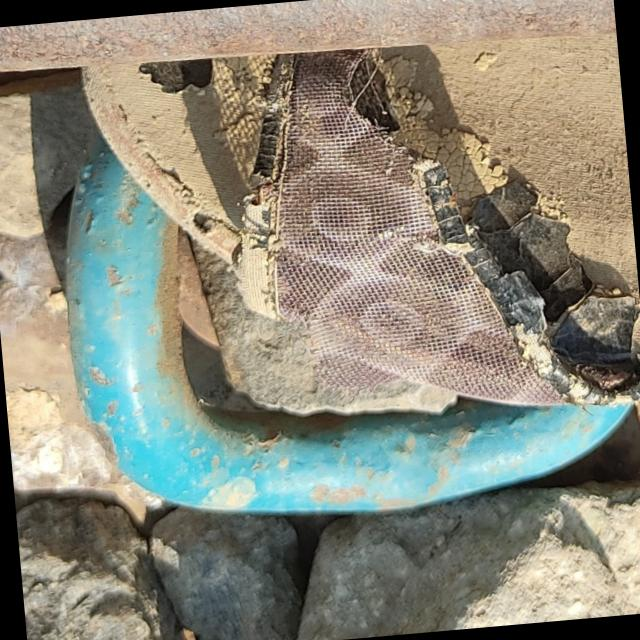track_bolt: (44, 99, 640, 544)
